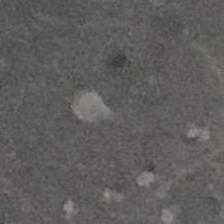Non_Crack: (11, 5, 224, 224)
